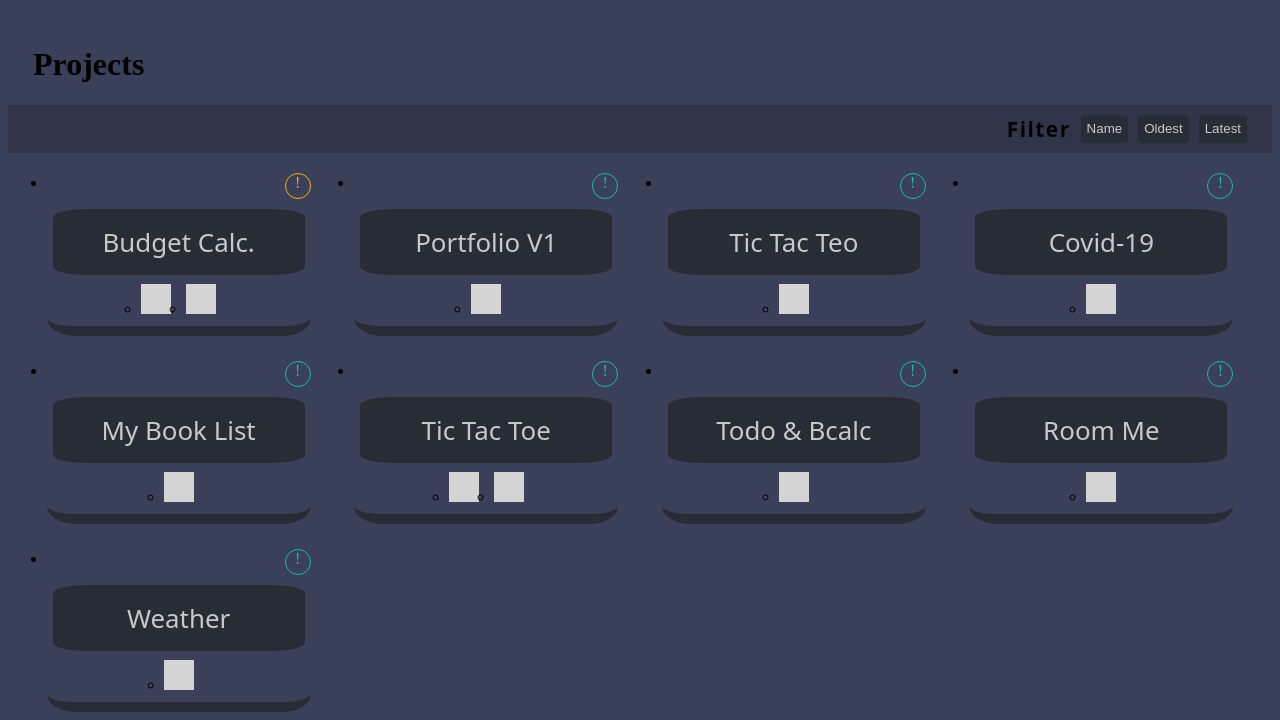
Scenario: Project Details Render
The image size is (1280, 720).
Click the button "Budget Calc." at {"x": 179, "y": 242}, box [47,208,311,276]
(page scrolled)
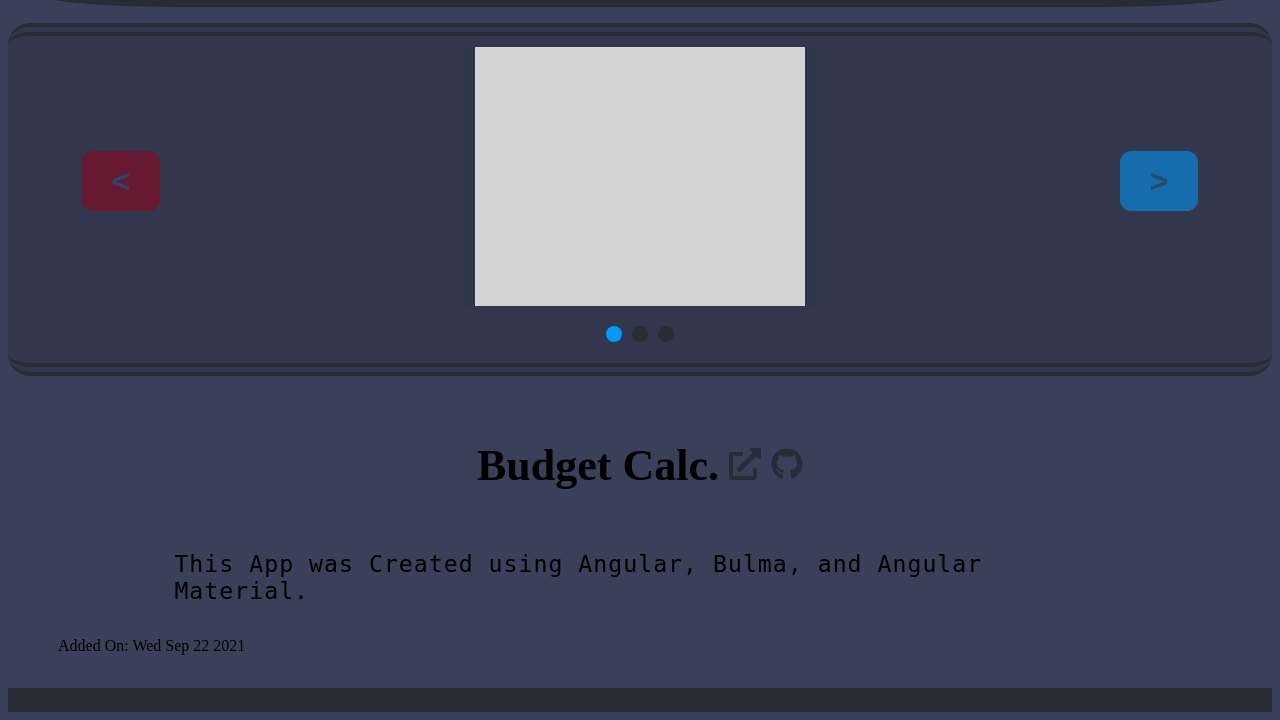
Expected: the text "Budget Calc." is shown 2 times
Expected: the text "Added On: Wed Sep 22 2021" is shown, [58,637,245,654]
Expected: the text box "This App was Created using Angular, Bulma, and Angular Material." is shown, [163,540,1117,614]
